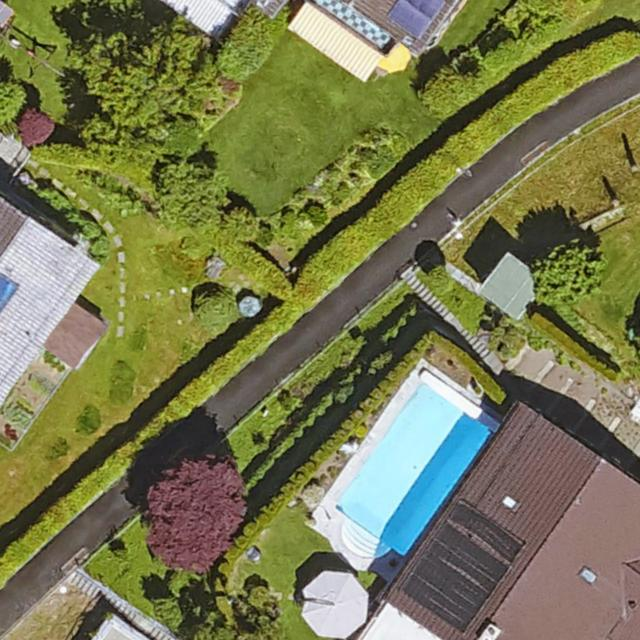tree: (78, 22, 221, 151), (143, 458, 247, 569), (531, 242, 603, 307), (156, 160, 224, 228), (15, 106, 53, 149), (194, 288, 236, 325), (0, 76, 27, 128)
